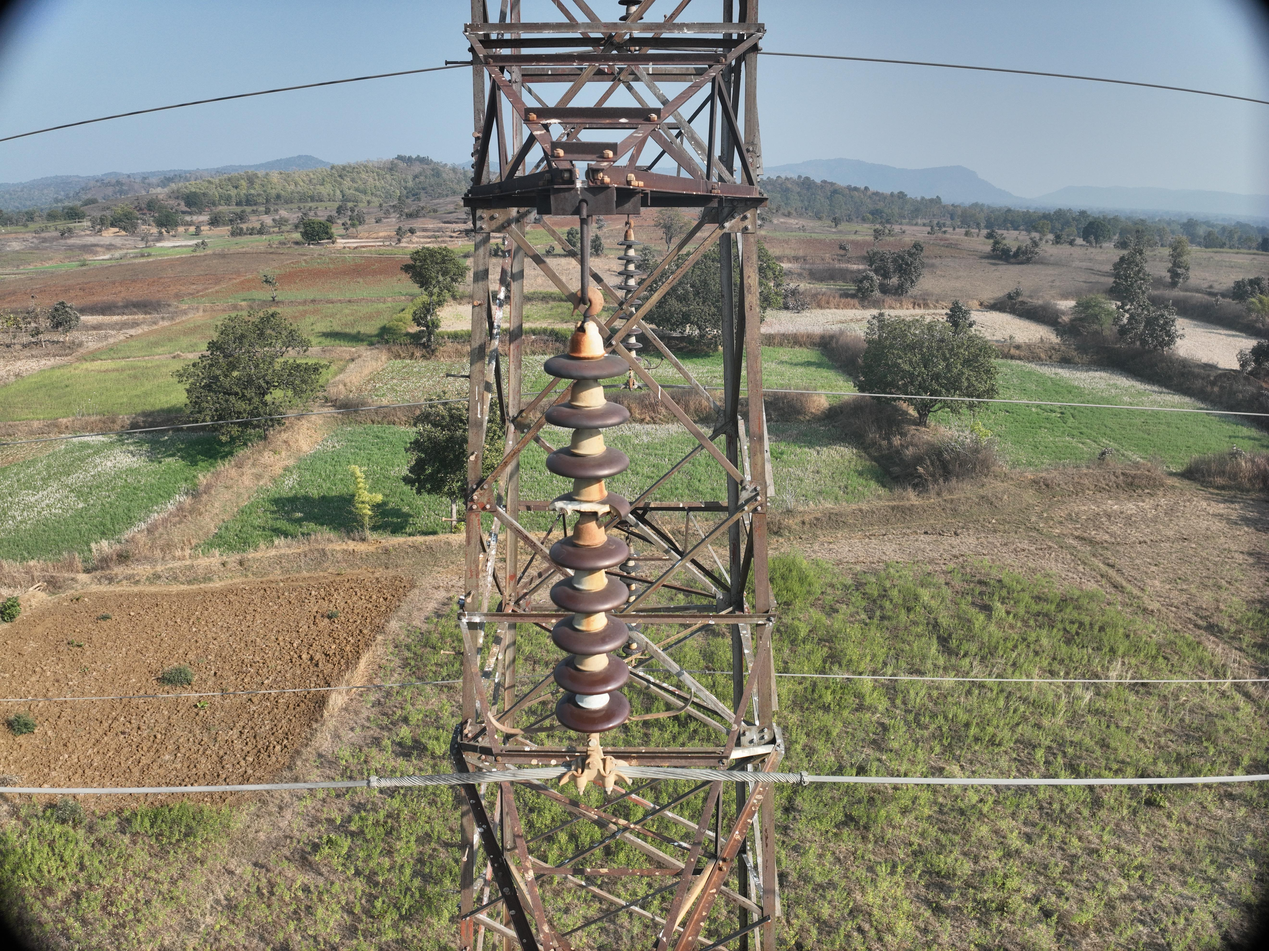broken_insulator: (537, 484, 650, 527)
